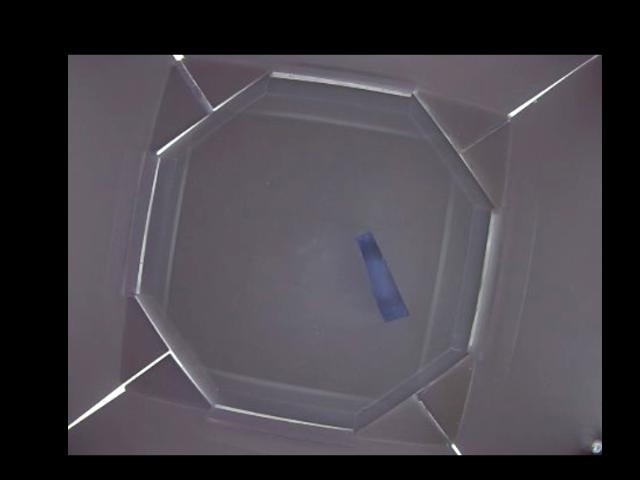Mooli: (355, 233, 410, 325)
